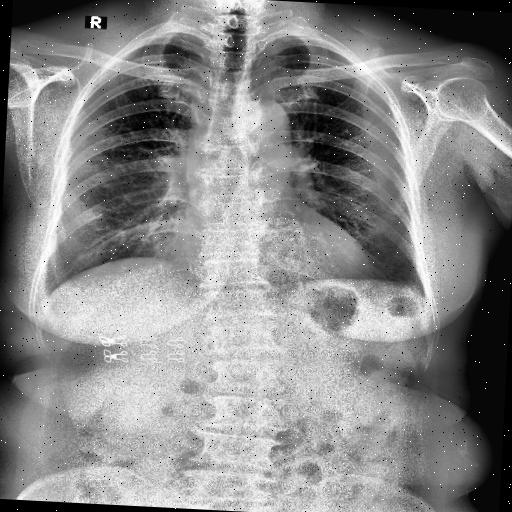0- Aortic enlargement: (234, 98, 296, 148), (244, 96, 295, 152), (247, 98, 293, 138)
3- Cardiomegaly: (154, 206, 375, 276)
